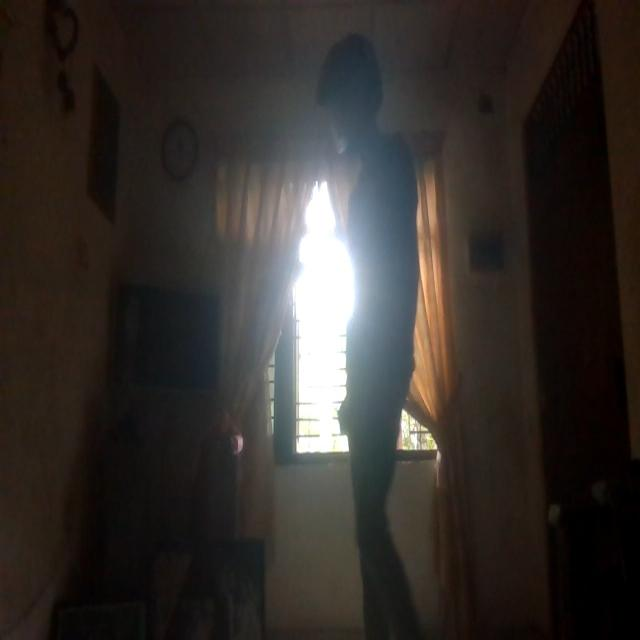Helmet_Wearer: (318, 40, 389, 155)
Person: (313, 28, 437, 640)
